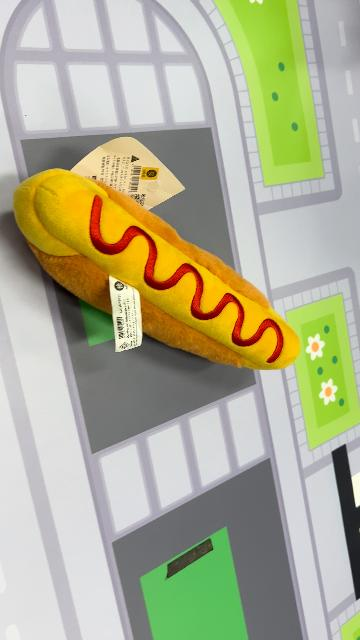hotdog: (12, 167, 302, 373)
